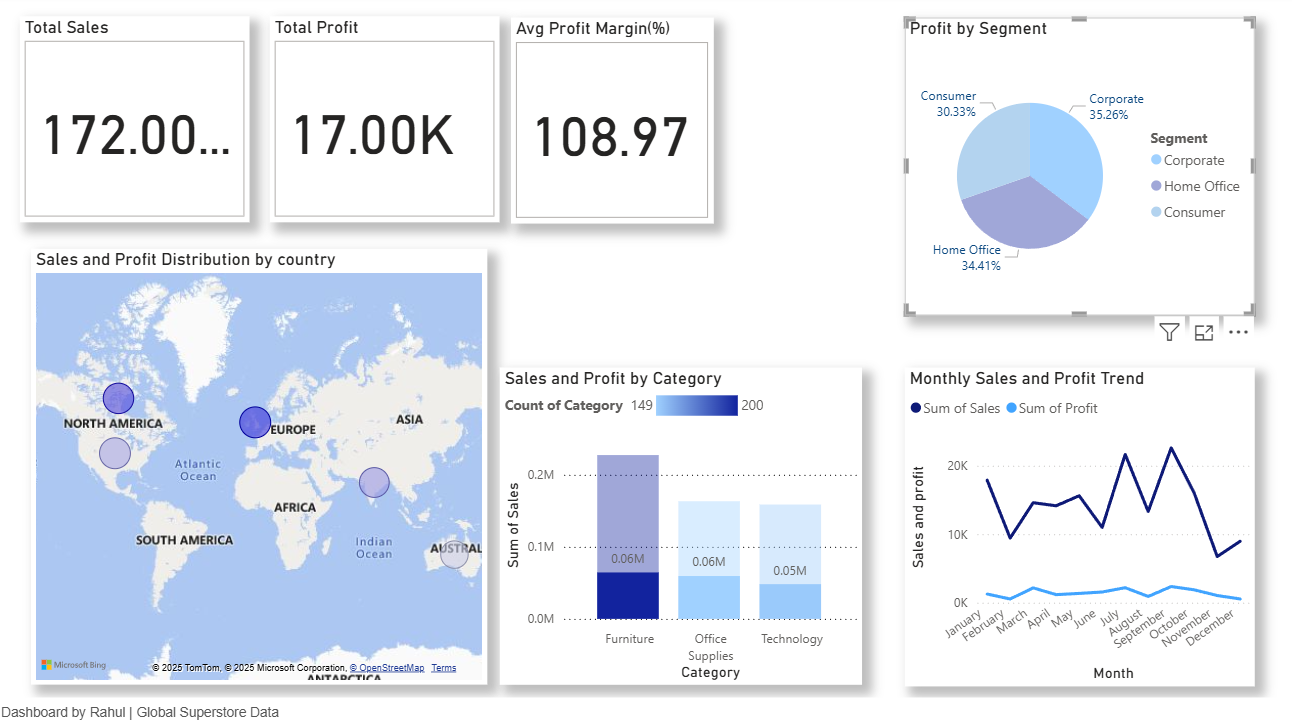

This screenshot's page, from the dashboard's own definition file:
{"tool":"powerbi","page":{"name":"Page 1","canvas":[1280,720],"ordinal":0},"visuals":[{"type":"cardVisual","title":"Total Sales","fields":{"Data":["Sum(Sheet1.Sales)"]},"box":[23.2,20.8,225,201.8],"z":0},{"type":"cardVisual","title":"Total Profit","fields":{"Data":["Sum(Sheet1.Profit)"]},"box":[267.8,20.8,225,201.8],"z":1000},{"type":"cardVisual","title":"Avg Profit Margin(%)","fields":{"Data":["Avg(Sheet1.Profit)"]},"box":[503.8,22,198.1,201.8],"z":2000},{"type":"map","title":"Sales and Profit Distribution by country","fields":{"Category":["Sheet1.Country"],"Size":["Sum(Sheet1.Sales)"]},"box":[34.2,248.2,446.3,426.8],"z":3000},{"type":"clusteredColumnChart","title":"Sales and Profit by Category","fields":{"Category":["Sheet1.Category"],"Y":["Sum(Sheet1.Sales)"]},"box":[492.8,364.4,344.8,310.6],"z":4000},{"type":"pieChart","title":"Profit by Segment","fields":{"Category":["Sheet1.Segment"],"Y":["Sum(Sheet1.Profit)"]},"box":[889,22,342.4,291],"z":5000},{"type":"lineChart","title":"Monthly Sales and Profit Trend","fields":{"Category":["Sheet1.Order Date.Variation.Date Hierarchy.Month"],"Y":["Sum(Sheet1.Sales)","Sum(Sheet1.Profit)"]},"box":[889,364.4,342.4,311.8],"z":6000},{"type":"textbox","box":[702,32,150,202],"z":7000},{"type":"textbox","box":[0,687.2,1280.3,33],"z":7001}]}

Visuals, with their boxes in screenshot pixels (x1, y1, x2, y2), scaled from the page's 1280x720 canvas onto the 1292x723 screenshot:
"Total Sales" cardVisual: bbox=[23, 21, 251, 224]
"Total Profit" cardVisual: bbox=[270, 21, 497, 224]
"Avg Profit Margin(%)" cardVisual: bbox=[509, 22, 708, 225]
"Sales and Profit Distribution by country" map: bbox=[35, 249, 485, 678]
"Sales and Profit by Category" clusteredColumnChart: bbox=[497, 366, 845, 678]
"Profit by Segment" pieChart: bbox=[897, 22, 1243, 314]
"Monthly Sales and Profit Trend" lineChart: bbox=[897, 366, 1243, 679]
textbox: bbox=[709, 32, 860, 235]
textbox: bbox=[0, 690, 1291, 722]
